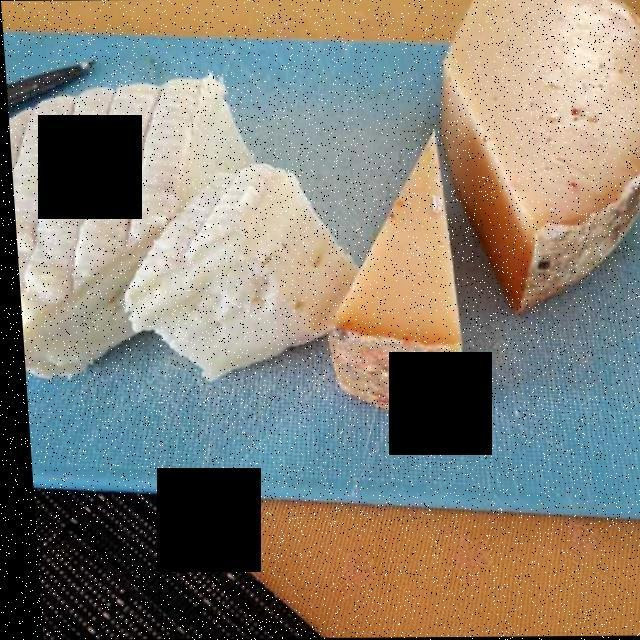cheese: (326, 3, 638, 415), (9, 69, 353, 360)
